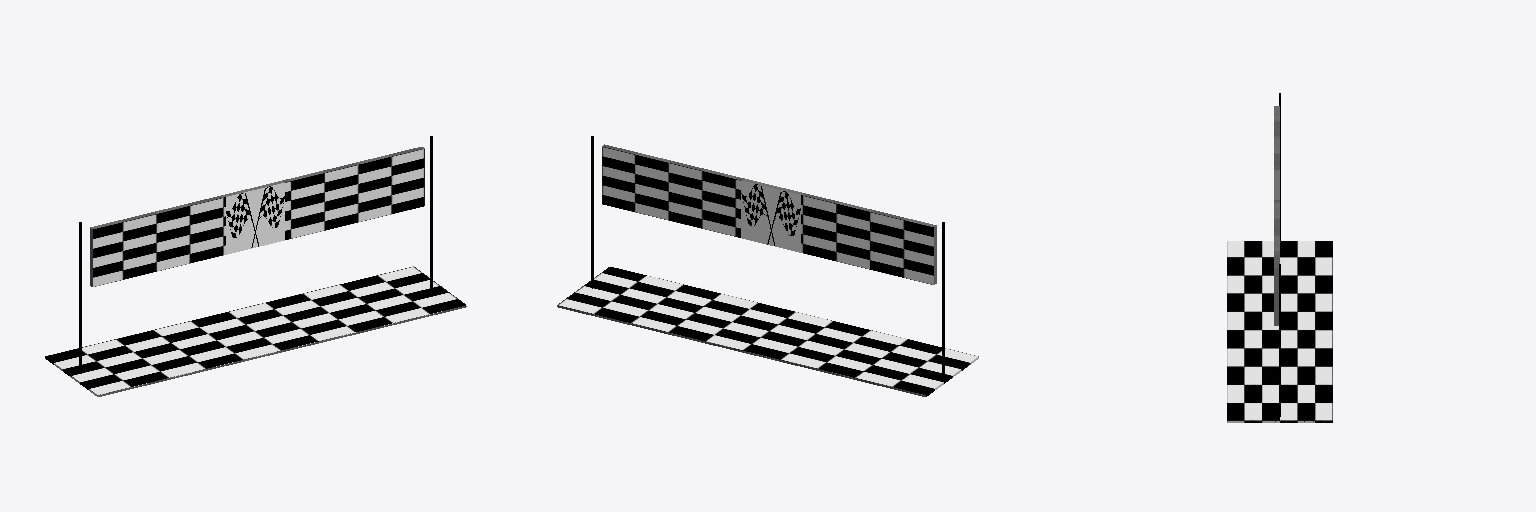
3 renders of one model, left to right at view 1: azimuth 30°, elevation 25°; view 2: azimuth 150°, elevation 25°; view 3: azimuth 270°, elevation 25°, orthographic.
Parts seen in each view (by area): view 1: bandera_meta; view 2: bandera_meta; view 3: bandera_meta.
Part boxes in pixels (bbox=[...]): bandera_meta: bbox=[45, 136, 466, 396]; bandera_meta: bbox=[557, 136, 978, 396]; bandera_meta: bbox=[1227, 93, 1332, 422].
Size of the model in its own units: 200 by 79.49 by 50.
4 materials, 2 textured.